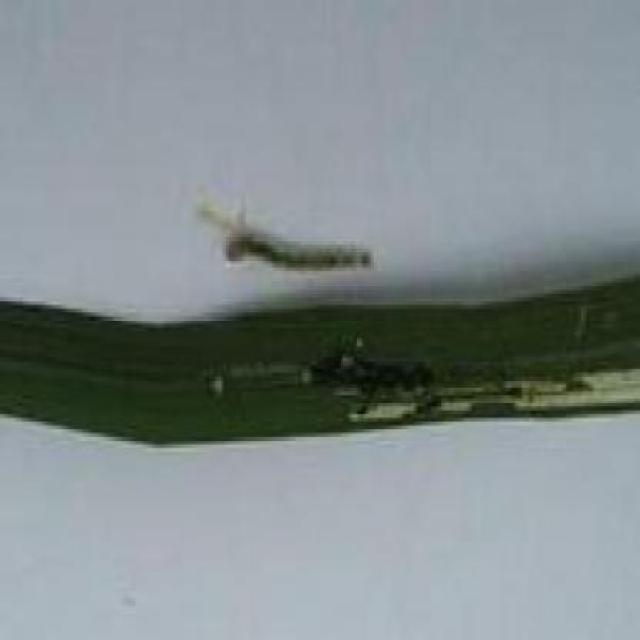leaf-folder: (182, 188, 388, 281)
